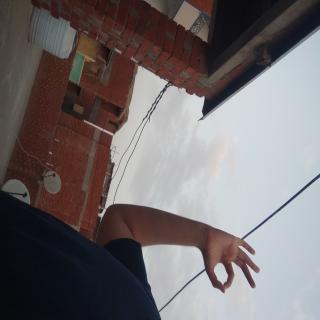Space: (163, 76, 222, 162)
